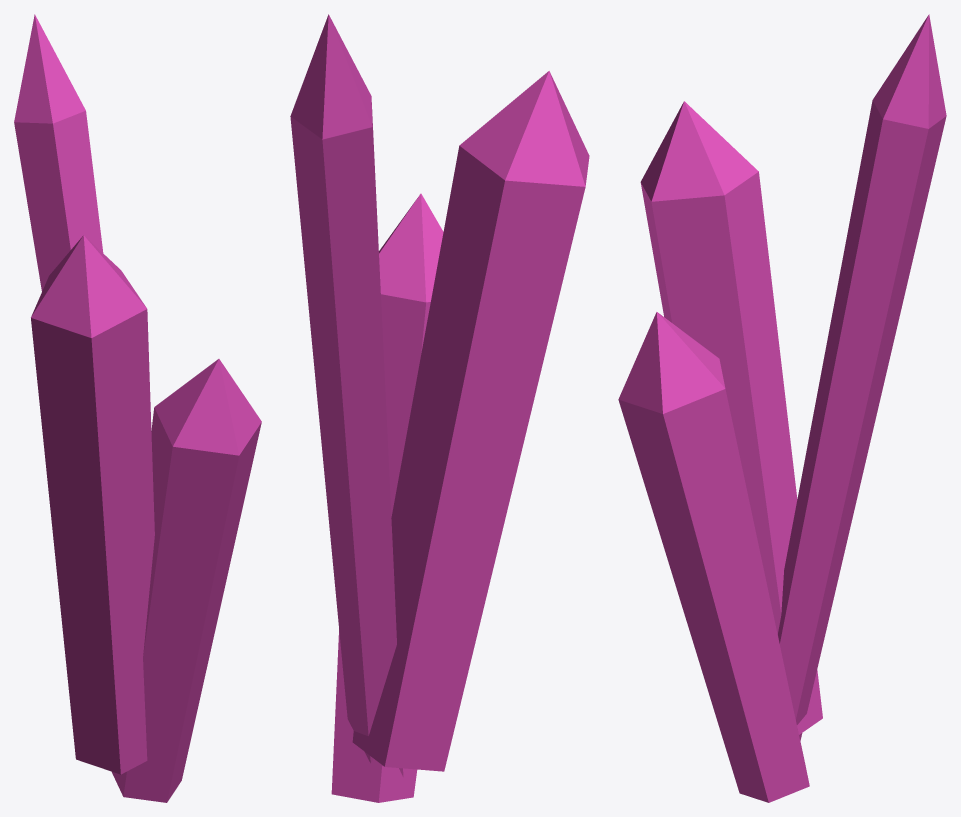
File: small_crystals_16_4.fbx
3 renders of one model, left to right at view 1: azimuth 30°, elevation 25°; view 2: azimuth 150°, elevation 25°; view 3: azimuth 270°, elevation 25°, orthographic. The views are drawn at different scales.
Parts seen in each view (by area): view 1: small crystals.030; view 2: small crystals.030; view 3: small crystals.030.
Boxes of the visible parts, box(x1,y1,x2,y2) form: small crystals.030: box(14, 14, 261, 802); small crystals.030: box(290, 14, 589, 802); small crystals.030: box(618, 14, 946, 802).
Size of the model in its own units: 107 by 357 by 140.
